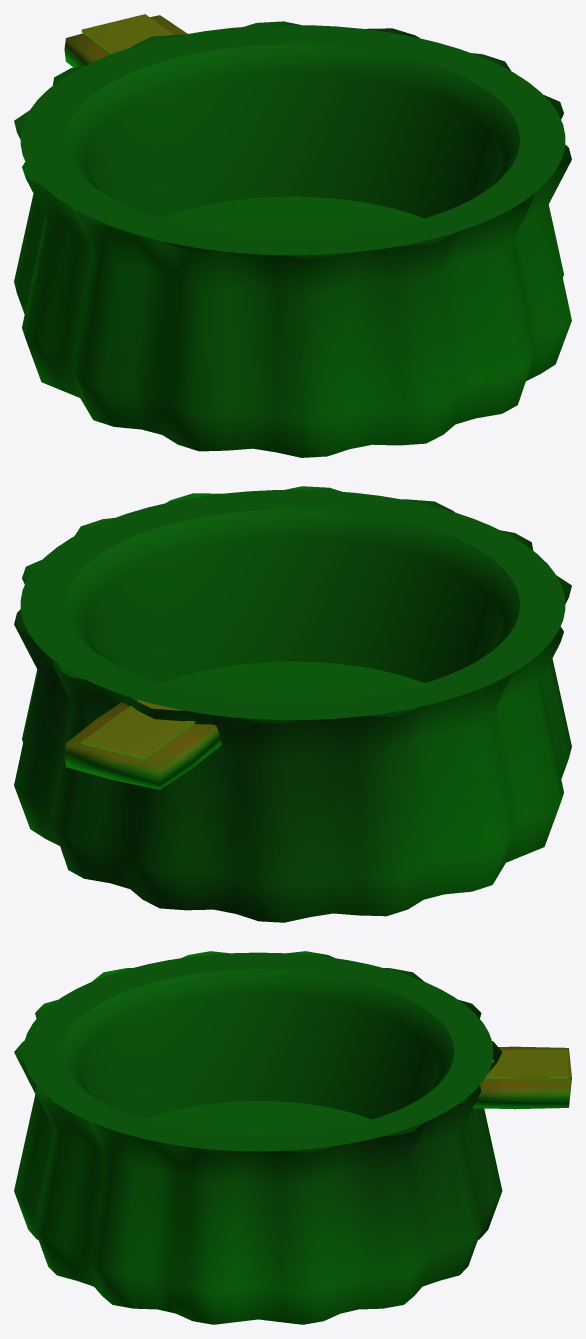
File: shrine_spring.glb
3 renders of one model, top to bottom at view 1: azimuth 30°, elevation 25°; view 2: azimuth 150°, elevation 25°; view 3: azimuth 270°, elevation 25°, orthographic. The views are drawn at different scales.
Parts seen in each view (by area): view 1: shrine_spring; view 2: shrine_spring; view 3: shrine_spring.
Part boxes in pixels (box(x1,y1,x2,y2)): shrine_spring: box(14, 14, 571, 457); shrine_spring: box(14, 486, 571, 922); shrine_spring: box(14, 951, 571, 1324).
Size of what is drawn, in the model's own units: 1.34 by 0.55 by 1.56.
